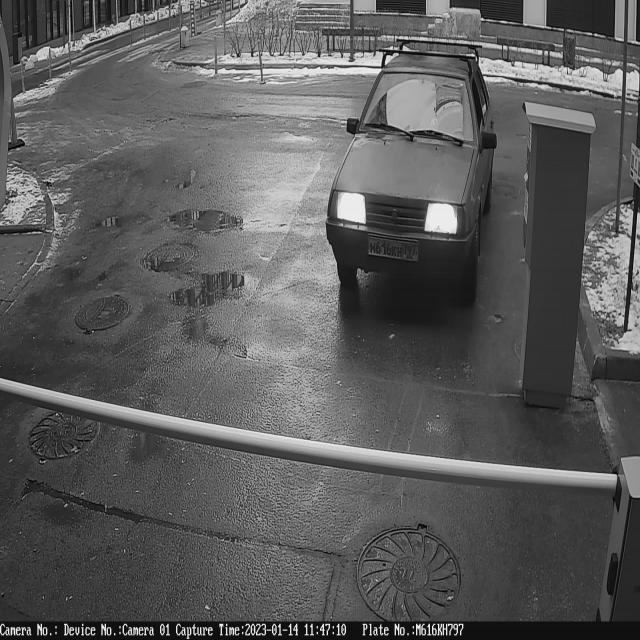car-plate-numbers: (366, 234, 420, 266)
